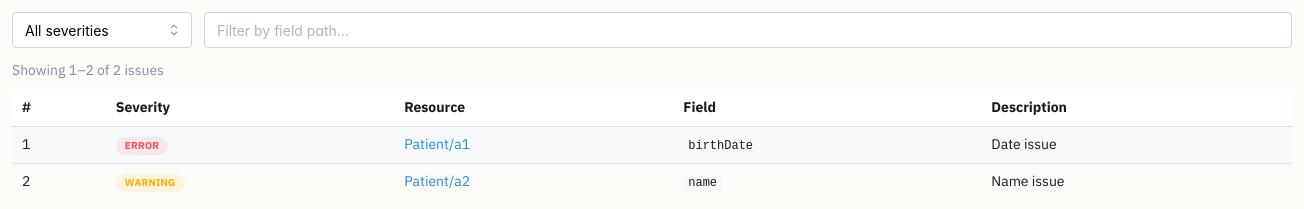
Test: ResourceIssueTable › field filter narrows by substring match
The width and height of the screenshot is (1304, 209).
Type "birthDate" into the field labelled "Filter by field path". click: (748, 30)
box: top-left (204, 12), bottom-right (1292, 48)
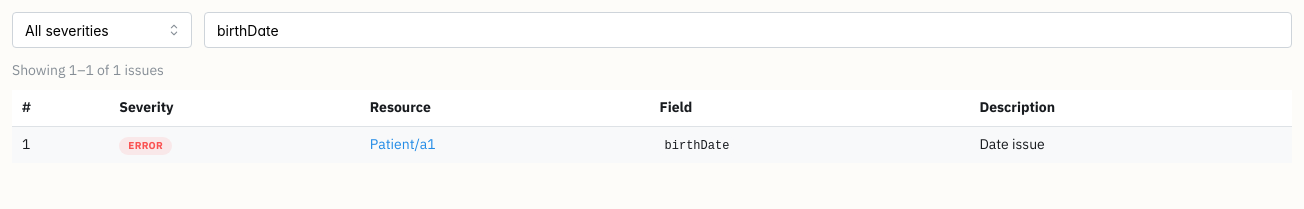
Expected: the text "Date issue" is shown, top-left (969, 126), bottom-right (1292, 163)
Now the text "Name issue" is gone
